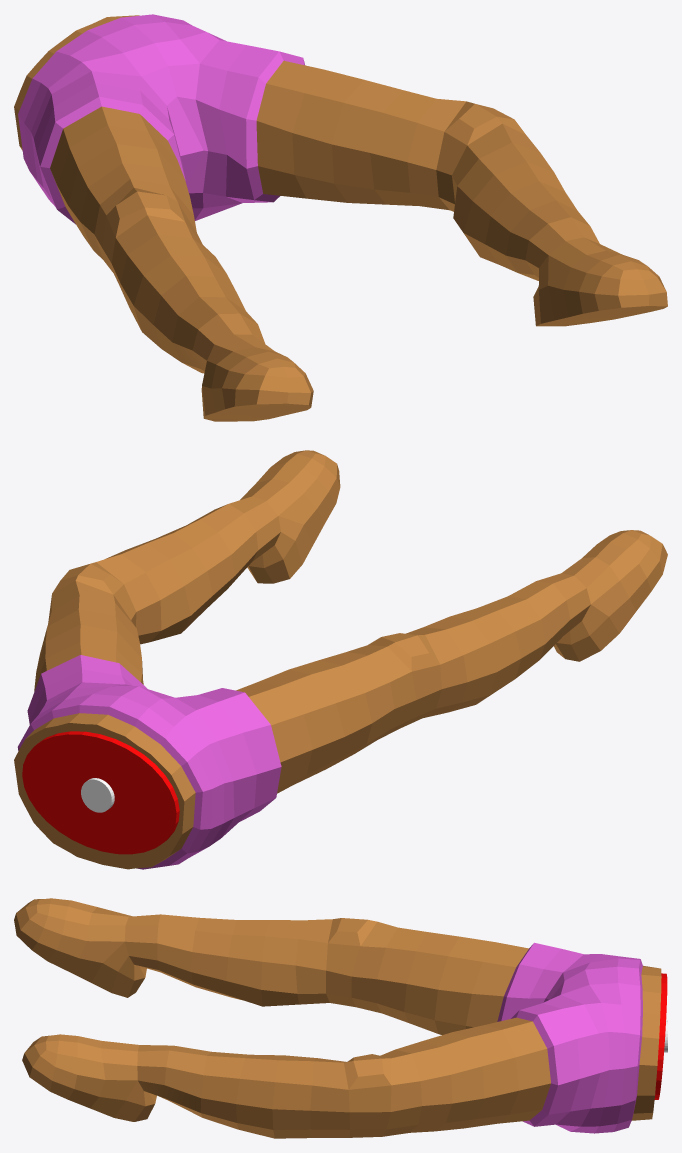
Rendered from BoddyBottom.fbx.
3 renders of one model, top to bottom at view 1: azimuth 30°, elevation 25°; view 2: azimuth 150°, elevation 25°; view 3: azimuth 270°, elevation 25°, orthographic. The views are drawn at different scales.
Parts seen in each view (by area): view 1: Body_Legs, Underwear, Body_Feet, Body_Chest.001; view 2: Body_Legs, Underwear, Body_Feet, Cylinder.002, Body_Chest.001, Cylinder.004; view 3: Body_Legs, Underwear, Body_Feet, Body_Chest.001, Cylinder.002.
Part boxes in pixels (x1,y1,x2,y2): Body_Legs: [50, 61, 599, 373]; Underwear: [18, 14, 304, 224]; Body_Feet: [201, 237, 667, 421]; Body_Chest.001: [14, 15, 139, 150]; Body_Legs: [34, 496, 590, 793]; Underwear: [17, 655, 281, 869]; Body_Feet: [240, 450, 667, 661]; Cylinder.002: [22, 731, 179, 854]; Body_Chest.001: [14, 713, 195, 869]; Cylinder.004: [81, 778, 114, 812]; Body_Legs: [124, 914, 550, 1138]; Underwear: [497, 942, 642, 1133]; Body_Feet: [14, 898, 156, 1121]; Body_Chest.001: [631, 965, 661, 1120]; Cylinder.002: [654, 973, 667, 1099].
Size of the model in its own units: 8370 by 3129 by 12196.
